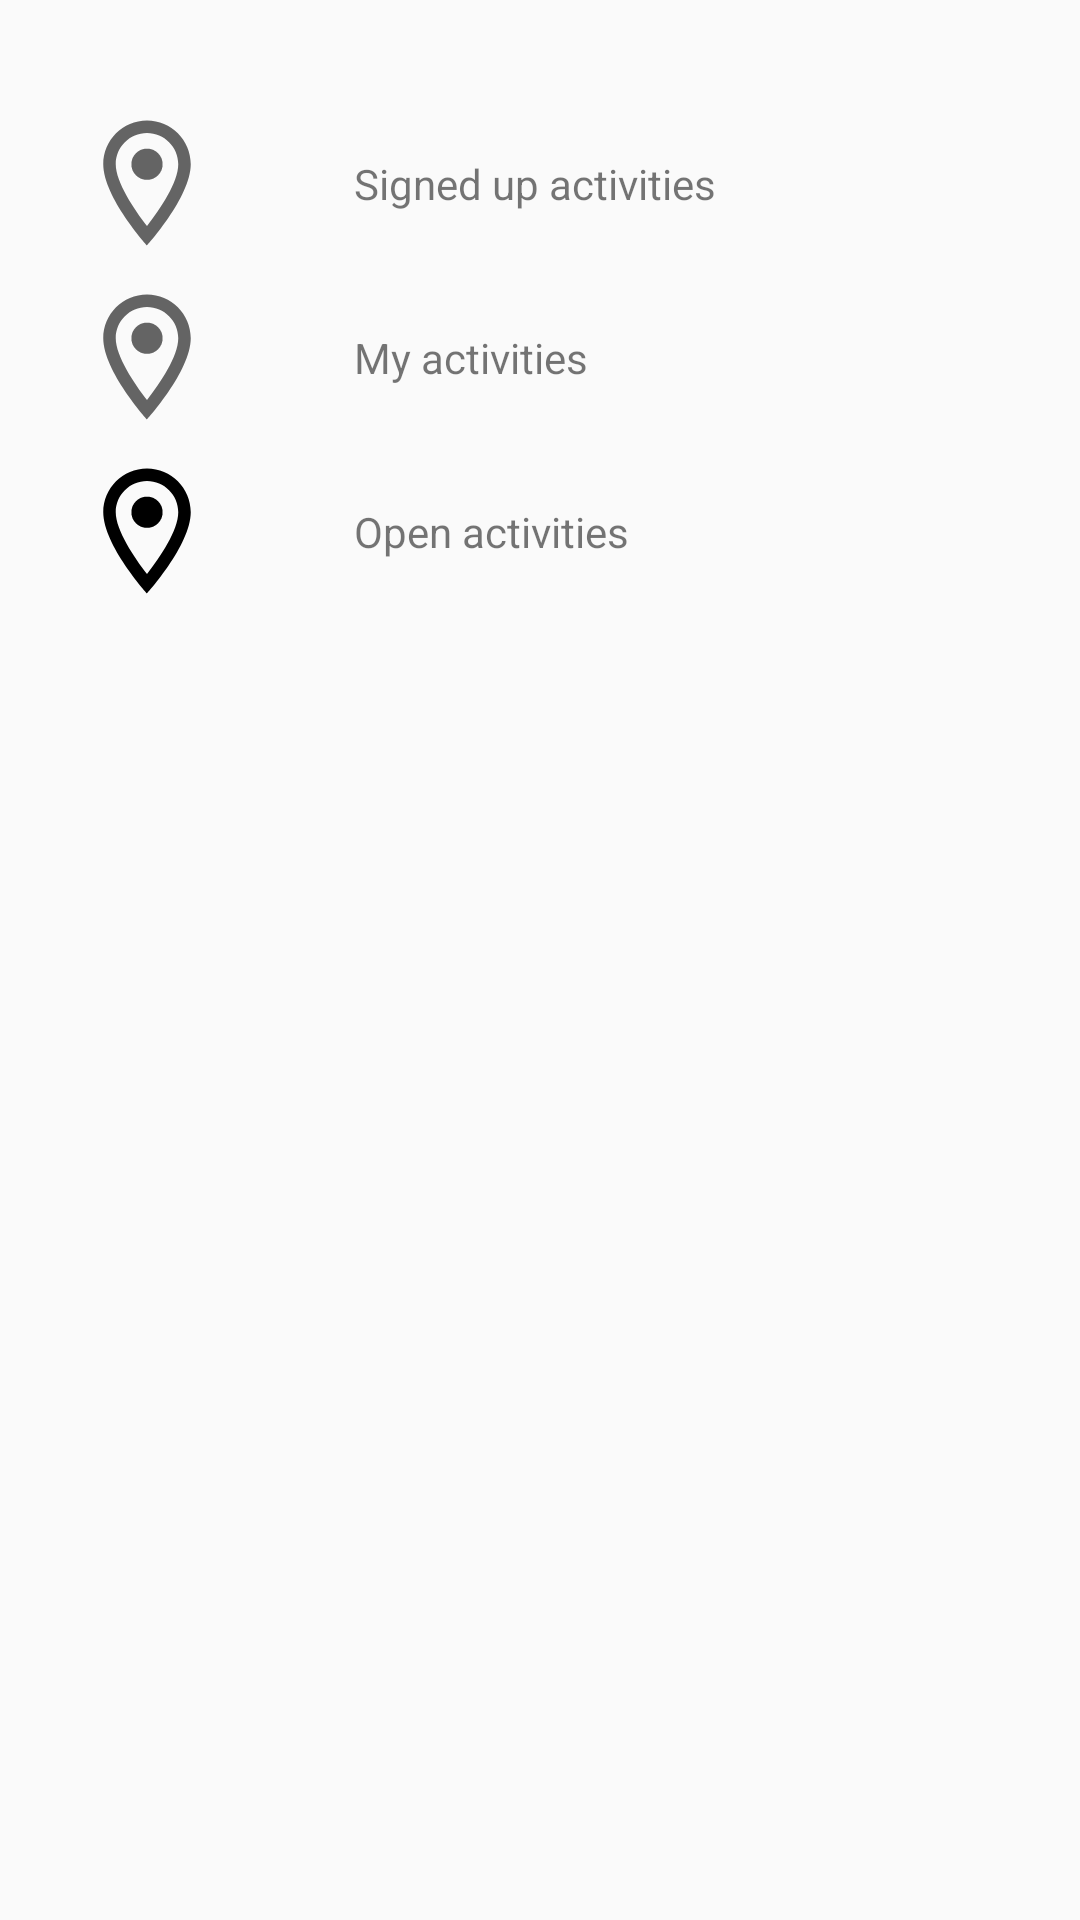

Icons on this 1080×1920 Android screen, each with the point to tap as [x,y]:
activity location: [147,356]
open activity location: [147,531]
signed up activity location: [147,182]
